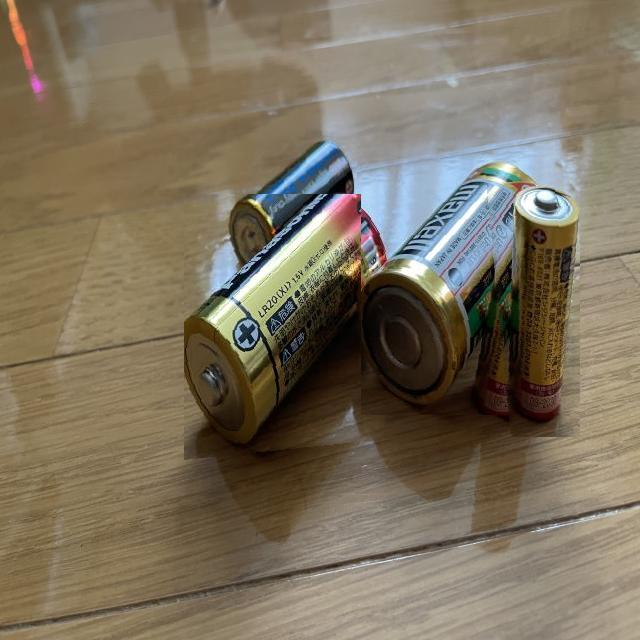battery: (184, 194, 404, 462), (361, 160, 566, 416), (485, 169, 580, 437), (227, 140, 357, 280)
